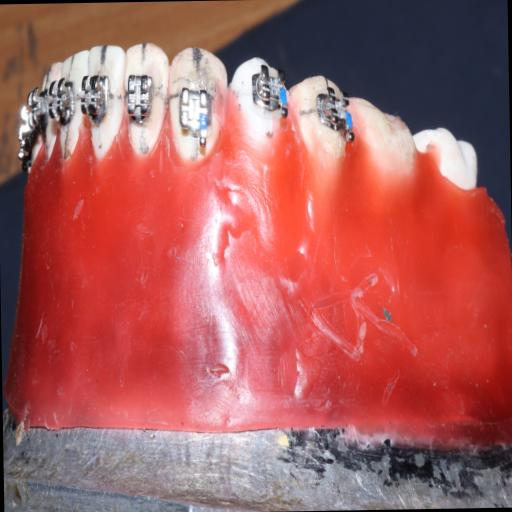correct_brace: (126, 72, 158, 120)
incorrect_brace: (124, 37, 171, 166), (174, 82, 220, 148)
